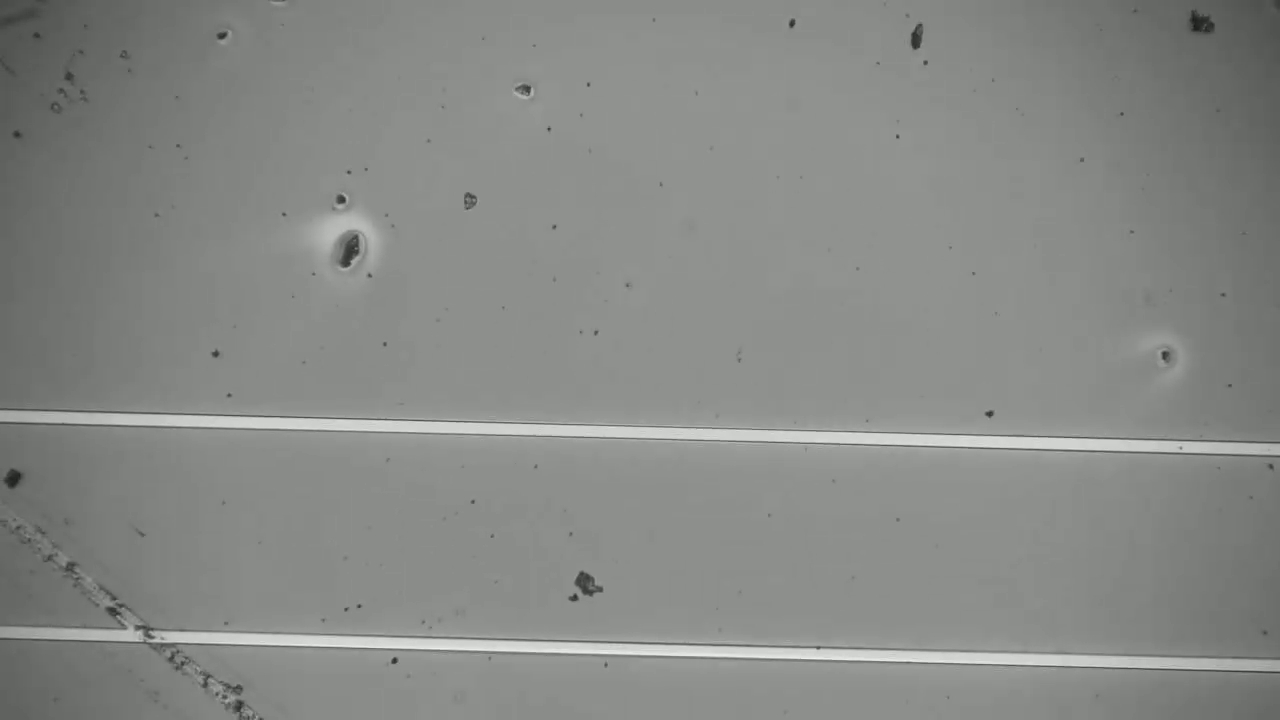scratch: (1, 461, 272, 714)
